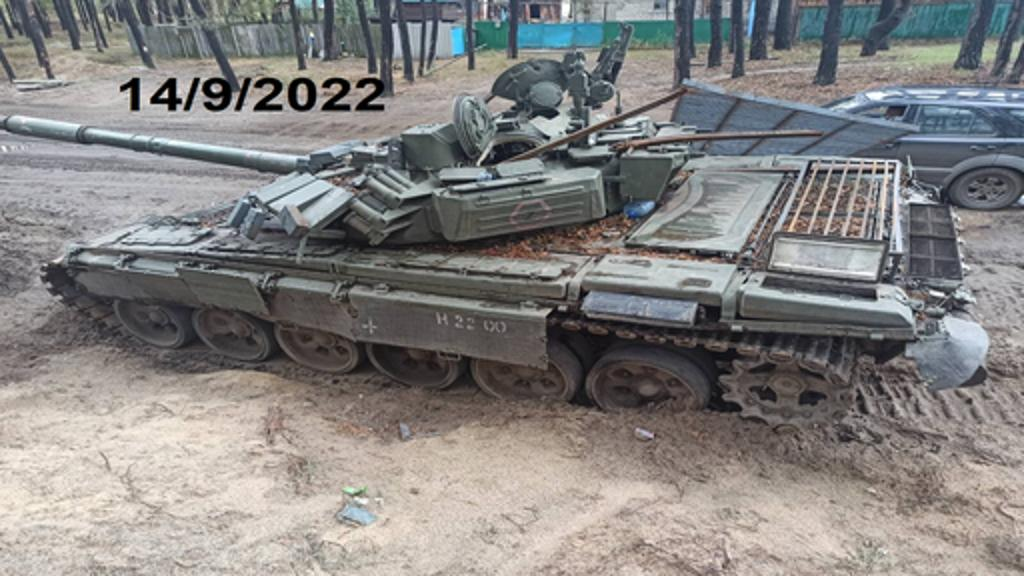CAR: (758, 72, 1022, 208)
TANK: (4, 56, 998, 512)
